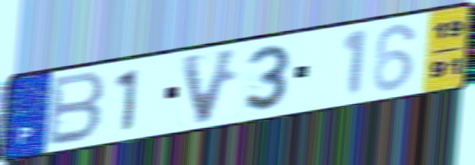1: (338, 26, 371, 101), (112, 65, 145, 133)
3: (244, 41, 292, 114)
6: (369, 20, 422, 94)
B: (43, 69, 110, 149)
V: (178, 44, 244, 128)
